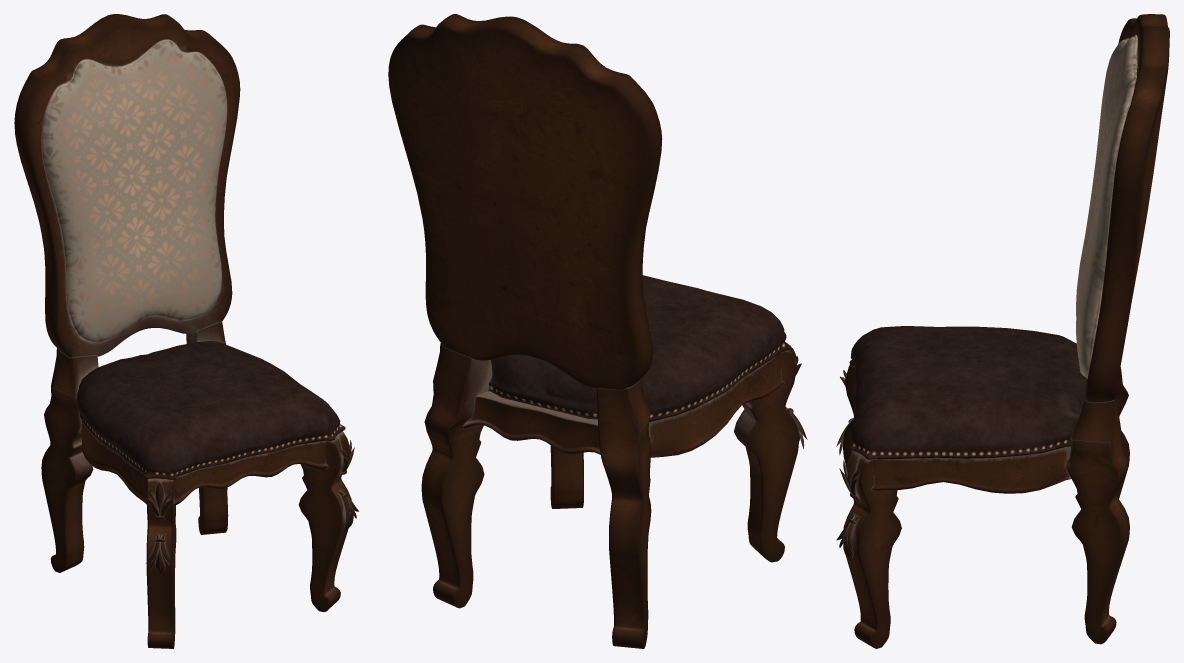
The picture shows the model from 3 angles, left to right: view 1: azimuth 30°, elevation 25°; view 2: azimuth 150°, elevation 25°; view 3: azimuth 270°, elevation 25°; orthographic projection. The views are drawn at different scales.
Visible parts, largest first — view 1: victorian_chair_cloth, victorian_chair_wood; view 2: victorian_chair_wood, victorian_chair_cloth; view 3: victorian_chair_wood, victorian_chair_cloth.
Boxes of the visible parts, box(x1,y1,x2,y2) form: victorian_chair_cloth: box(42, 39, 345, 479); victorian_chair_wood: box(14, 14, 358, 648); victorian_chair_wood: box(388, 14, 807, 648); victorian_chair_cloth: box(488, 275, 791, 421); victorian_chair_wood: box(836, 14, 1169, 648); victorian_chair_cloth: box(849, 35, 1137, 459).
Bounding box in the file's own units: 0.6486 × 1.46 × 0.7746.
Materials: 2 (2 with a texture image).
